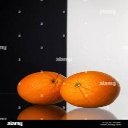orange: (61, 71, 120, 108)
